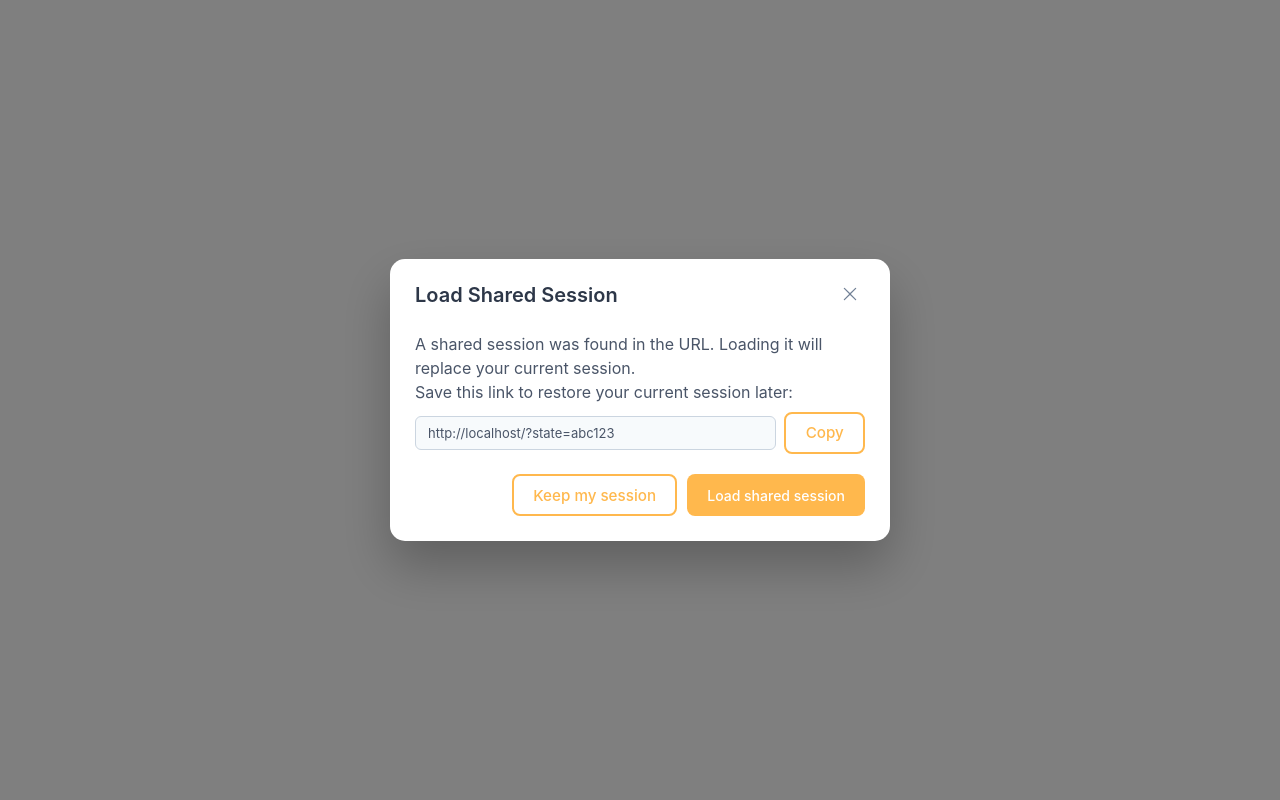
Test: ImportStateModal › should show "Copied!" after clicking copy button
What coordinates should you click on to do the following:
click the button with test id "copy-backup-url-button"
I would click on:
 (825, 433)
Its box is [784,412,865,454].
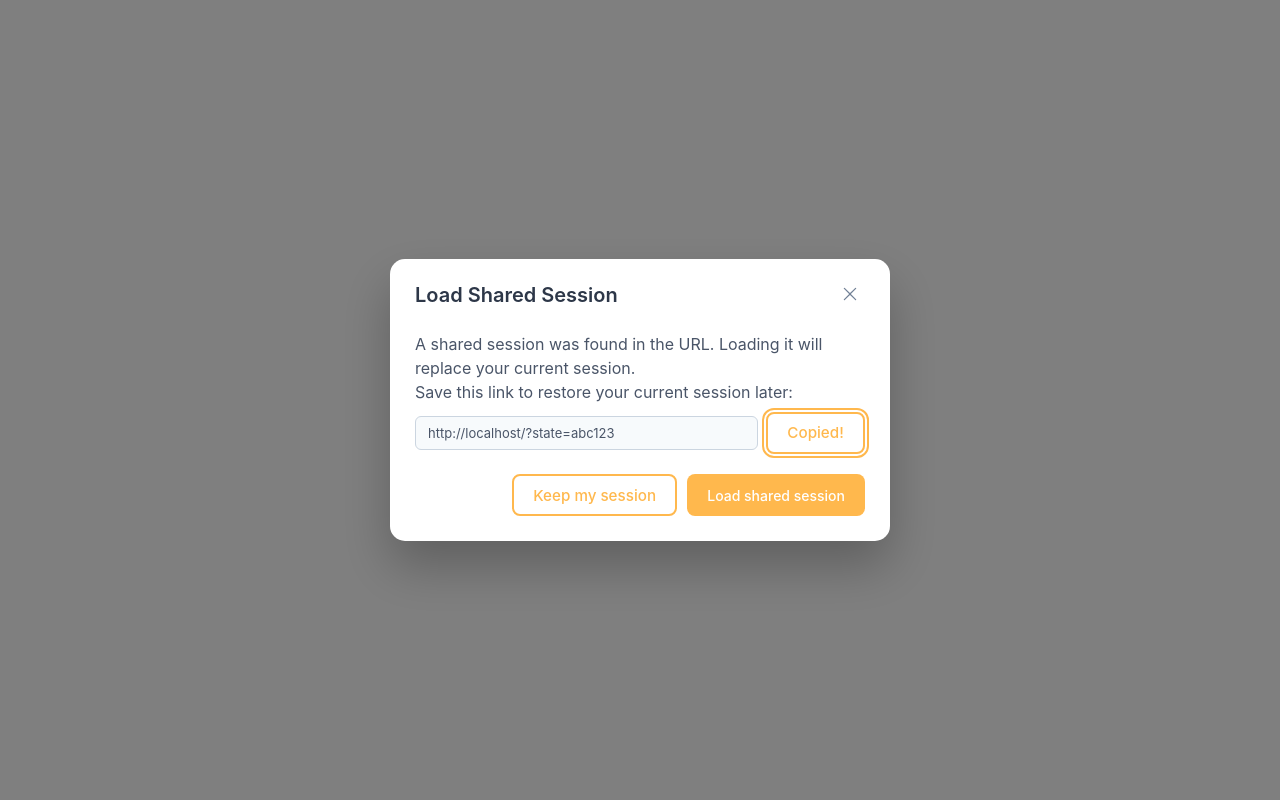
Check: the button with test id "copy-backup-url-button" reads "Copied!", box [766,412,865,454]
